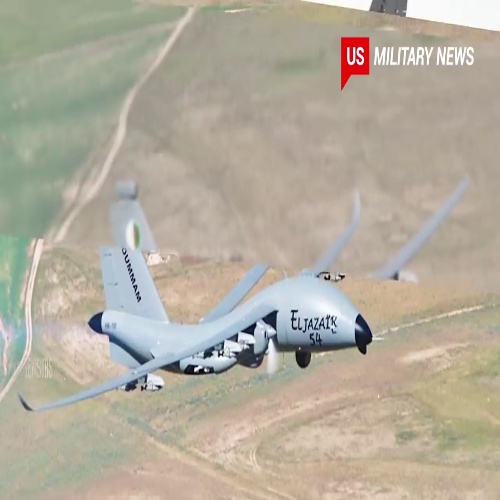uav: (19, 243, 380, 409)
